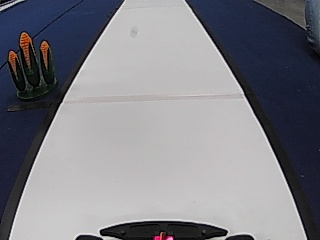corn: (6, 30, 59, 98)
